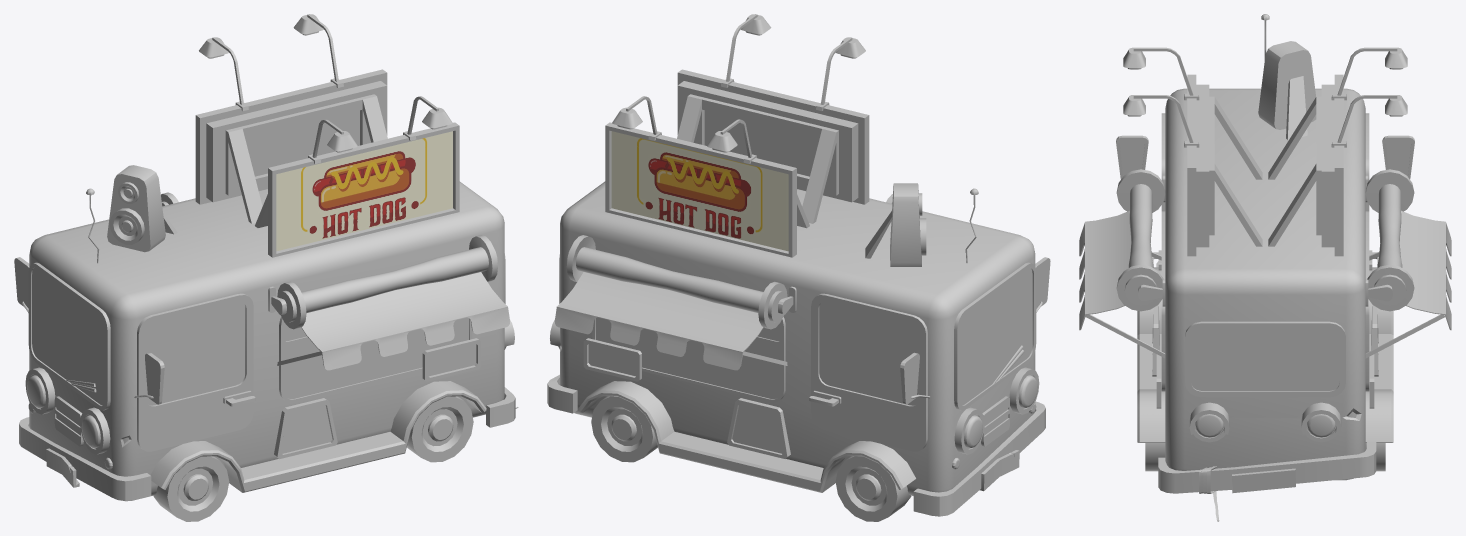
Rendered from cartoon_cars.fbx.
3 views of the same model, side by side, from view 1: azimuth 30°, elevation 25°; view 2: azimuth 150°, elevation 25°; view 3: azimuth 270°, elevation 25° (orthographic). The views are drawn at different scales.
Visible parts, largest first — view 1: Cube.064, Cube.065, Plane.011, Plane.025, Cylinder.039, Cylinder.045, Cylinder.038, Plane.018, Plane.020, Cylinder.042, Cylinder.043, Cube.069 (+13 smaller); view 2: Cube.064, Cube.065, Plane.011, Plane.030, Cylinder.039, Cylinder.045, Cylinder.038, Plane.018, Cylinder.042, Cylinder.043, Cube.069, Plane.020 (+13 smaller); view 3: Cube.064, Cube.065, Cylinder.038, Cylinder.039, Plane.011, Cylinder.045, Cube.070, Plane.018, Plane.020, Cylinder.044, Plane.022, Plane.010 (+10 smaller).
Boxes of the visible parts, x1,y1,x2,y2 form: Cube.064: (29,181,504,501); Cube.065: (28,253,505,451); Plane.011: (195,69,459,257); Plane.025: (276,131,452,251); Cylinder.039: (301,272,509,370); Cylinder.045: (150,381,486,492); Cylinder.038: (161,192,497,329); Plane.018: (225,94,387,227); Plane.020: (107,165,165,252); Cylinder.042: (153,456,229,521); Cylinder.043: (407,396,473,462); Cube.069: (19,417,151,500); Cube.064: (560,181,1035,495); Cube.065: (559,254,1036,451); Plane.011: (605,69,869,257); Plane.030: (611,131,788,251); Cylinder.039: (554,272,763,370); Cylinder.045: (578,381,915,492); Cylinder.038: (566,194,892,329); Plane.018: (677,94,838,228); Cylinder.042: (835,456,911,521); Cylinder.043: (591,396,657,462); Cube.069: (913,401,1045,516); Plane.020: (890,183,926,266); Cube.064: (1165,88,1365,480); Cube.065: (1161,113,1369,397); Cylinder.038: (1116,169,1414,311); Cylinder.039: (1079,210,1451,330); Plane.011: (1187,74,1343,256); Cylinder.045: (1137,267,1393,442); Cube.070: (1158,442,1376,493); Plane.018: (1209,96,1321,246); Plane.020: (1258,41,1316,129); Cylinder.044: (1189,402,1341,442); Plane.022: (1116,135,1414,178); Plane.010: (1085,252,1445,358).
Bounding box in the file's own units: 1558 × 1229 × 1129.
